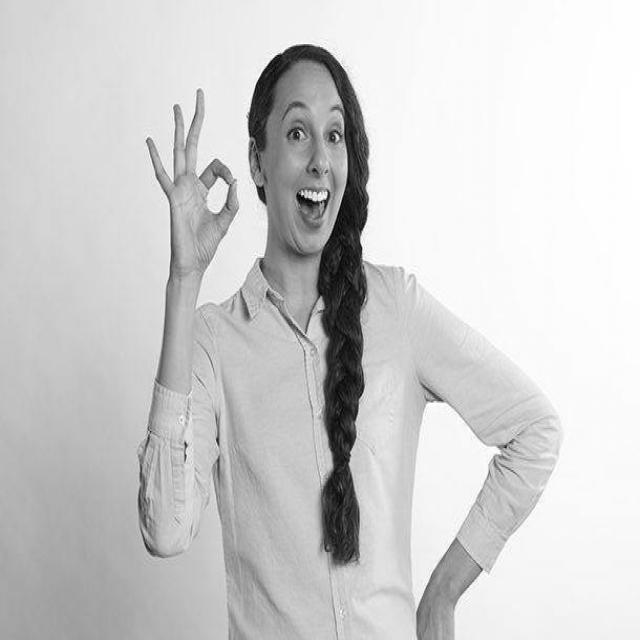perfect: (142, 78, 244, 292)
